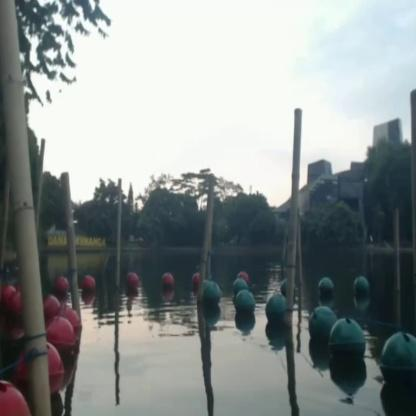green_buoy: (379, 331, 415, 394), (330, 316, 366, 374), (307, 305, 334, 347), (232, 288, 256, 324), (265, 289, 287, 323), (204, 278, 222, 313), (350, 273, 370, 304), (318, 275, 334, 303)
red_buoy: (48, 352, 65, 402), (51, 318, 75, 352), (54, 277, 68, 302), (42, 293, 56, 316), (82, 274, 95, 298), (162, 272, 174, 296), (127, 274, 139, 295), (191, 270, 200, 286)
